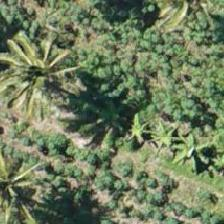coconut_tree: (0, 25, 83, 115), (145, 0, 223, 45)
